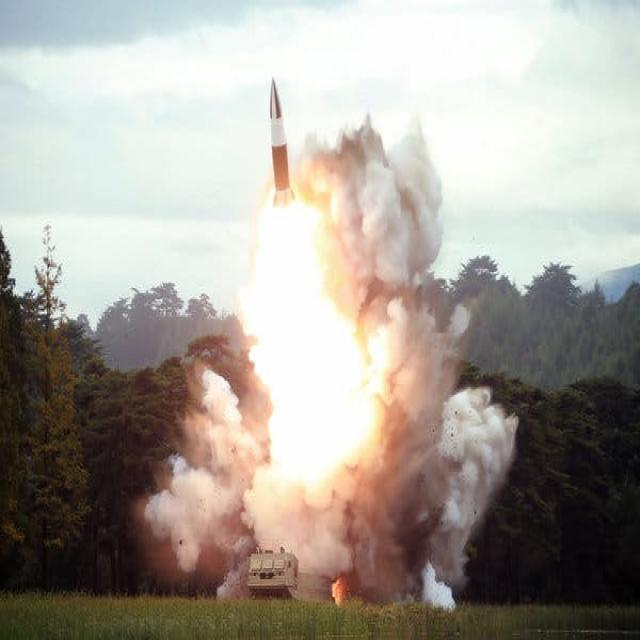missile: (262, 66, 302, 208)
